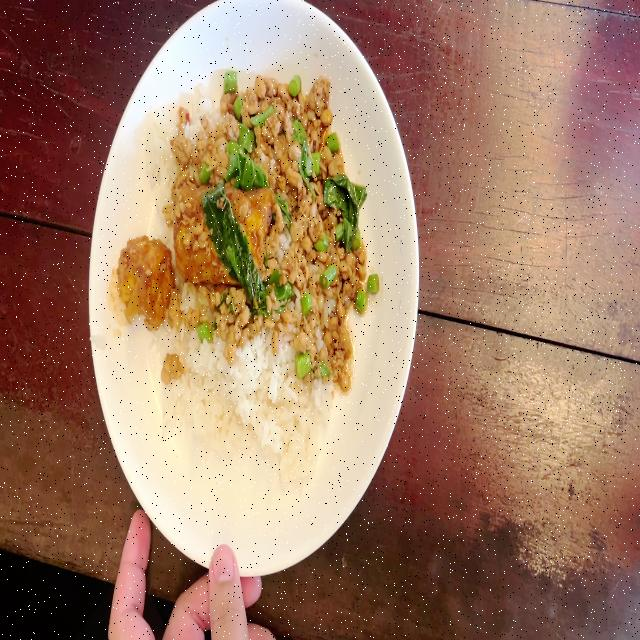fried_tofo: (175, 185, 269, 273), (120, 239, 170, 321)
minced_pork: (268, 182, 380, 394), (178, 63, 363, 184), (173, 281, 273, 351)
rice: (150, 330, 328, 480), (140, 87, 173, 215), (190, 77, 220, 126)
stir_fried_basil: (121, 65, 379, 501)
